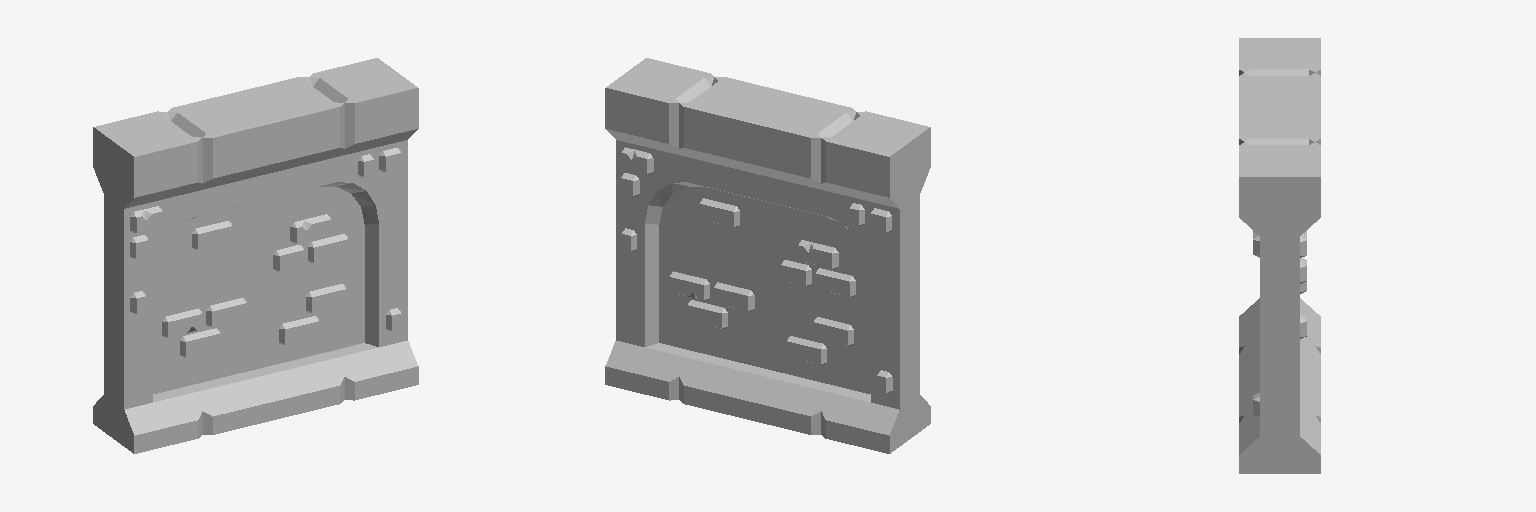
File: wall_arched.obj
3 renders of one model, left to right at view 1: azimuth 30°, elevation 25°; view 2: azimuth 150°, elevation 25°; view 3: azimuth 270°, elevation 25°, orthographic.
Visible parts, largest first — view 1: wall_arched; view 2: wall_arched; view 3: wall_arched.
Part boxes in pixels (left/top/right/bottom): wall_arched: left=93, top=58, right=418, bottom=453; wall_arched: left=605, top=58, right=930, bottom=453; wall_arched: left=1239, top=38, right=1320, bottom=473.
Bounding box in the file's own units: 4 × 4 × 1.